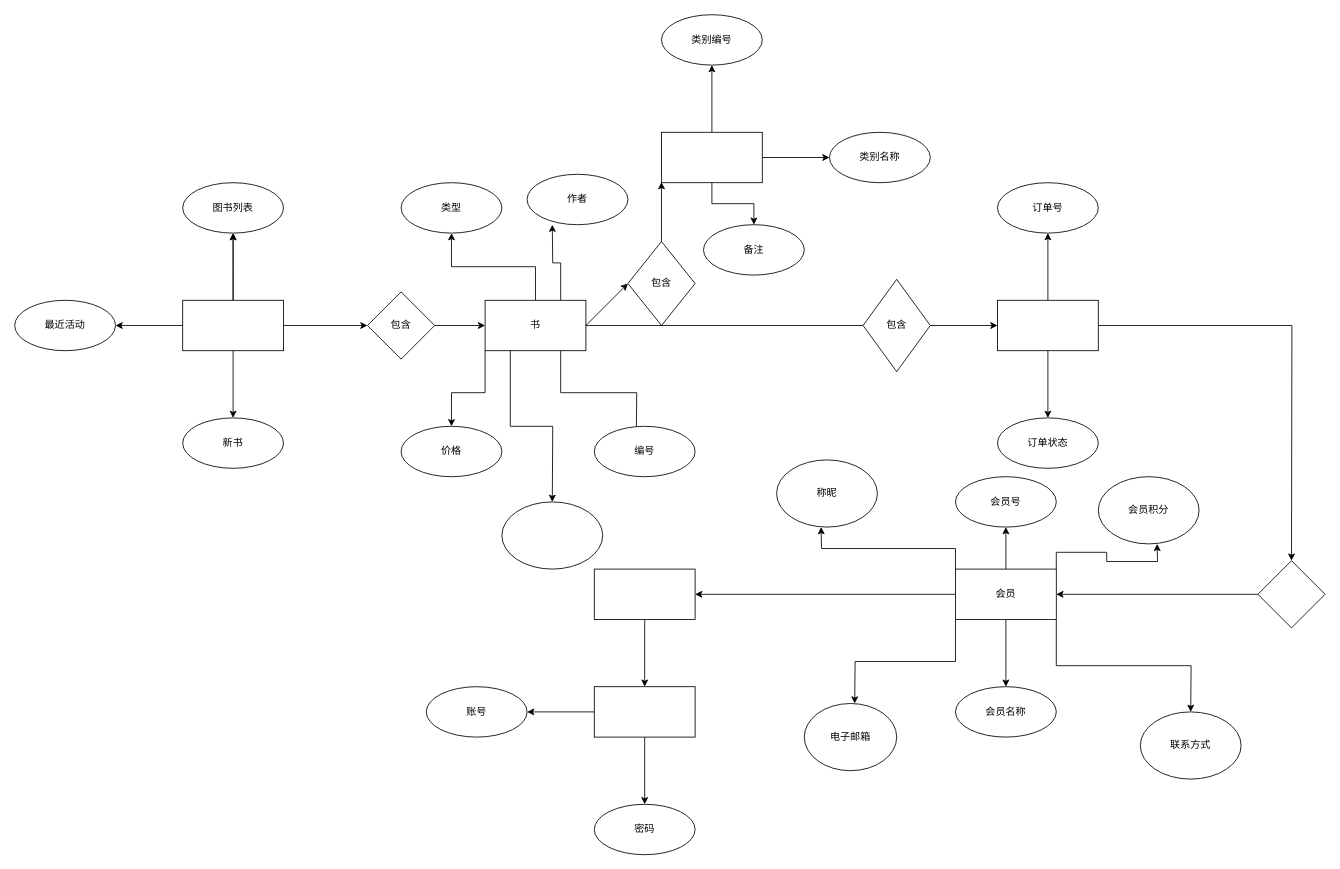
This 1340x869 diagram has some shape labels left out. Each missing label, with the centre of its shape:
"书店" belongs at (x=233, y=325).
"出版社" belongs at (x=552, y=535).
"图书类型" belongs at (x=711, y=157).
"注册" belongs at (x=644, y=594).
"用户" belongs at (x=644, y=711).
"管理" belongs at (x=1291, y=594).
"订单" belongs at (x=1047, y=325).
